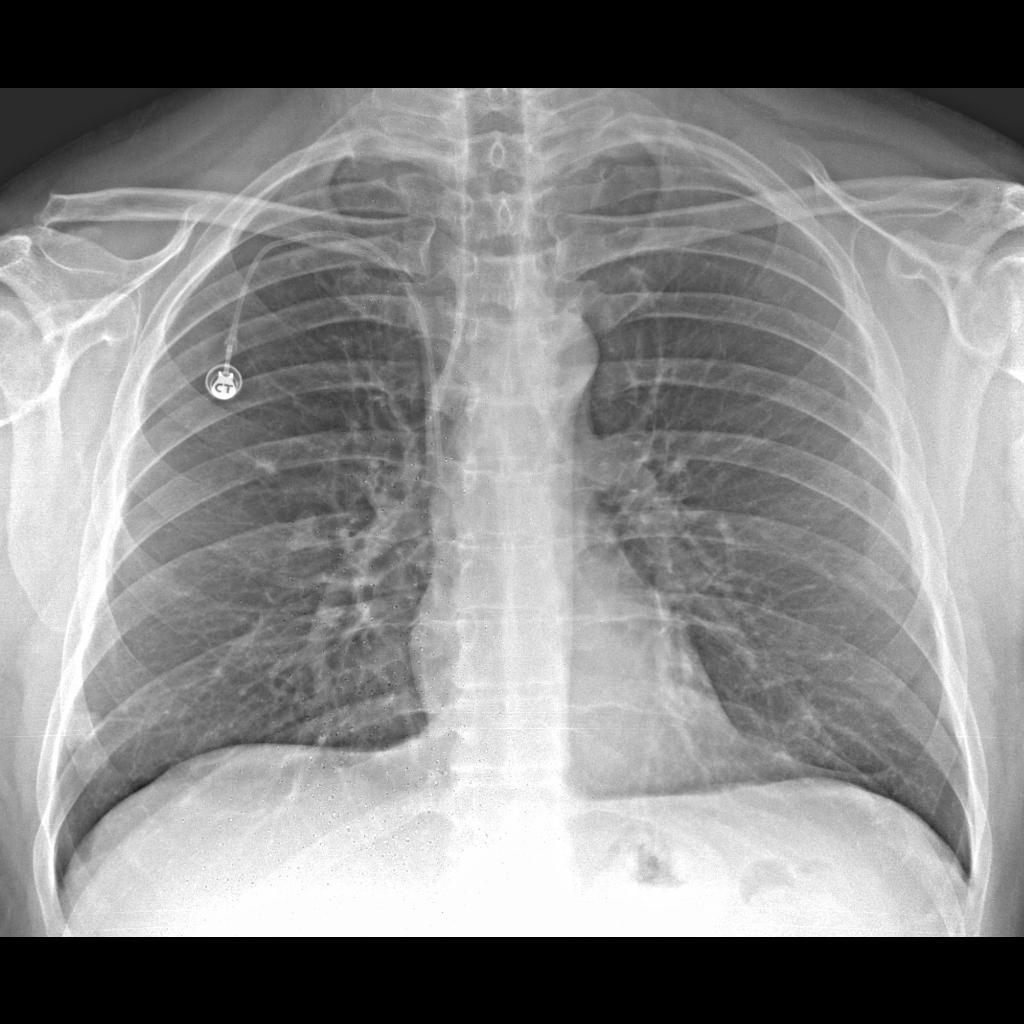Nodule: (60, 705, 107, 751)
